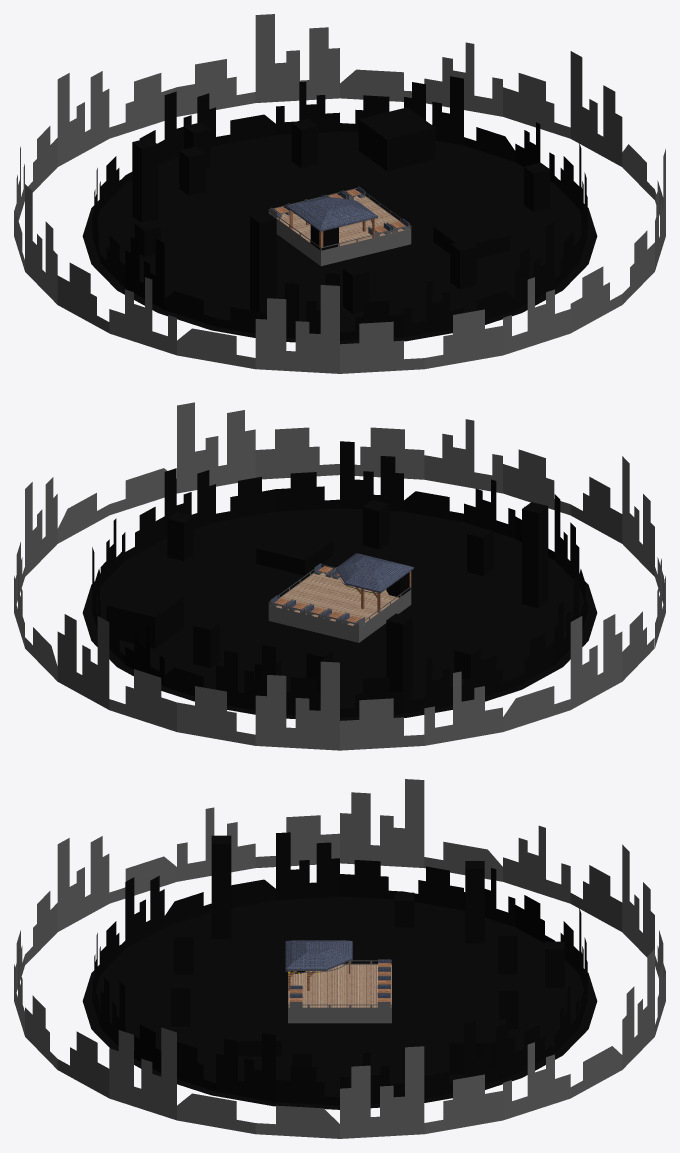
File: rooftop.gltf
The picture shows the model from 3 angles, top to bottom: view 1: azimuth 30°, elevation 25°; view 2: azimuth 150°, elevation 25°; view 3: azimuth 270°, elevation 25°; orthographic projection.
Parts seen in each view (by area): view 1: SketchUp.029, group_0, SketchUp.002, group_27, SketchUp.013, SketchUp.020, SketchUp.001, group_2, group_29, group_0.001, group_3, group_10 (+25 smaller); view 2: group_0, SketchUp.029, SketchUp.002, group_10, SketchUp.013, group_27, SketchUp.001, group_27.002, group_3, SketchUp.020, group_5, group_29 (+23 smaller); view 3: SketchUp.029, group_0, group_13, group_5, group_27.002, SketchUp.013, group_2, group_27, group_0.001, group_29, group_12, SketchUp.002 (+25 smaller).
Part boxes in pixels (box(x1,y1,x2,y2)): SketchUp.029: box(82, 131, 597, 344); group_0: box(14, 14, 665, 373); SketchUp.002: box(358, 107, 435, 170); group_27: box(268, 187, 411, 266); SketchUp.013: box(250, 212, 276, 315); SketchUp.020: box(132, 138, 158, 221); SketchUp.001: box(433, 215, 510, 258); group_2: box(404, 76, 463, 145); group_29: box(286, 196, 377, 231); group_0.001: box(57, 262, 109, 332); group_3: box(164, 91, 215, 161); group_10: box(515, 222, 554, 309); group_0: box(14, 402, 665, 750); SketchUp.029: box(82, 508, 597, 720); SketchUp.002: box(106, 585, 183, 648); group_10: box(340, 441, 403, 511); SketchUp.013: box(522, 502, 548, 607); group_27: box(268, 564, 411, 642); SketchUp.001: box(256, 528, 333, 575); group_27.002: box(288, 573, 392, 619); group_3: box(216, 644, 275, 710); SketchUp.020: box(386, 613, 412, 692); group_5: box(164, 468, 215, 538); group_29: box(336, 553, 413, 592); SketchUp.029: box(82, 896, 597, 1109); group_0: box(14, 779, 665, 1138); group_13: box(276, 832, 339, 899); group_5: box(216, 1033, 275, 1102); group_27.002: box(296, 968, 377, 1004); SketchUp.013: box(211, 835, 231, 938); group_2: box(464, 1021, 515, 1084); group_27: box(288, 960, 391, 1023); group_0.001: box(255, 815, 339, 867); group_29: box(285, 940, 352, 970); group_12: box(125, 875, 164, 948); SketchUp.002: box(449, 1019, 505, 1074).
Size of the model in its own units: 30.48 by 4.9 by 30.48.
Materials: 7 (3 with a texture image).
